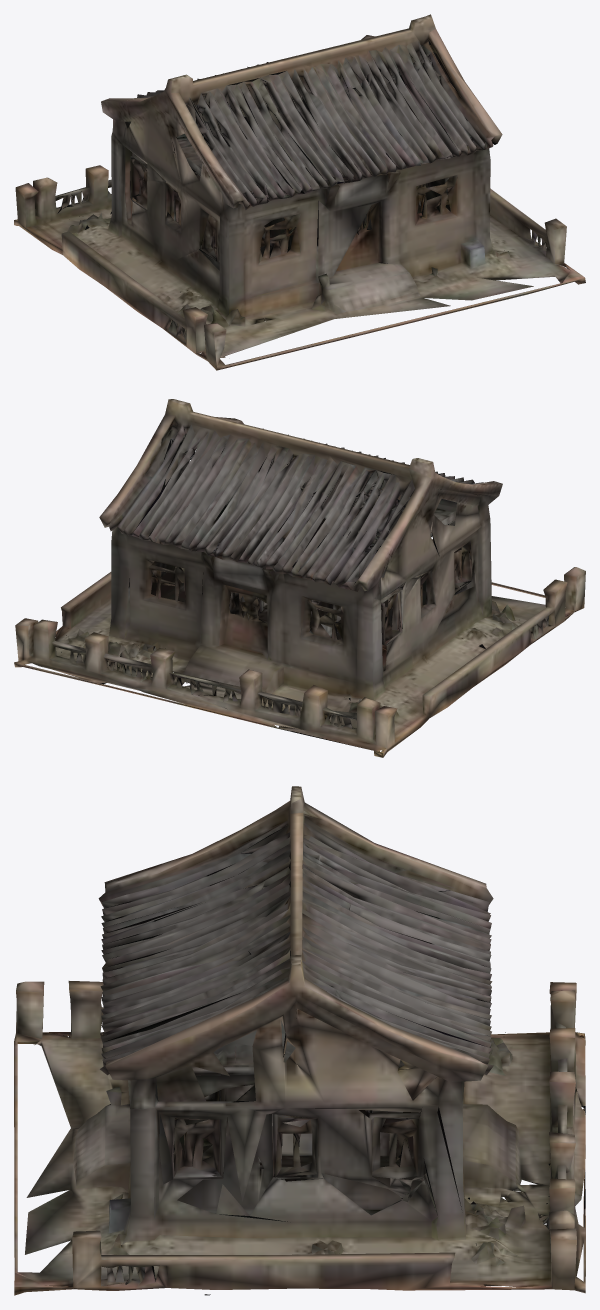
The model's file is bq_bookstore.bk.glb.
3 renders of one model, top to bottom at view 1: azimuth 30°, elevation 25°; view 2: azimuth 150°, elevation 25°; view 3: azimuth 270°, elevation 25°, orthographic. The views are drawn at different scales.
Visible parts, largest first — view 1: lo; view 2: lo; view 3: lo.
Part boxes in pixels (<box>): lo: <box>14,14,585,370</box>; lo: <box>14,399,585,757</box>; lo: <box>14,786,585,1295</box>.
Bounding box in the file's own units: 1.9 × 1.01 × 1.78.
1 material, 1 textured.
